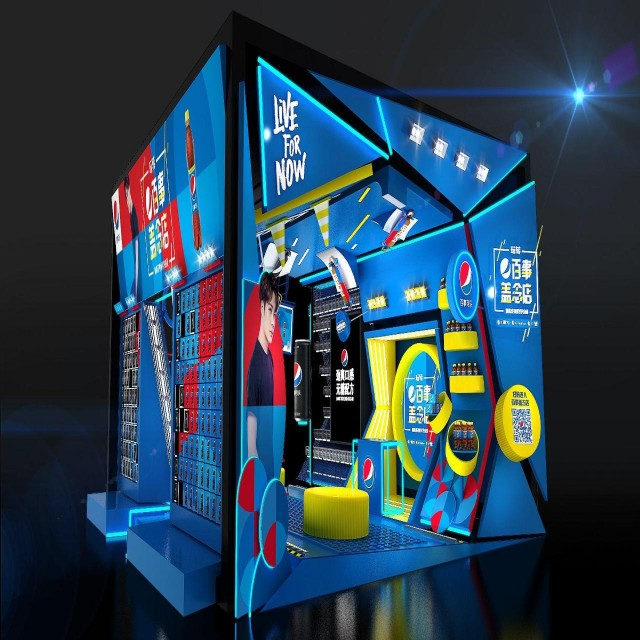pepsi: (458, 259, 476, 299), (362, 454, 377, 495)
